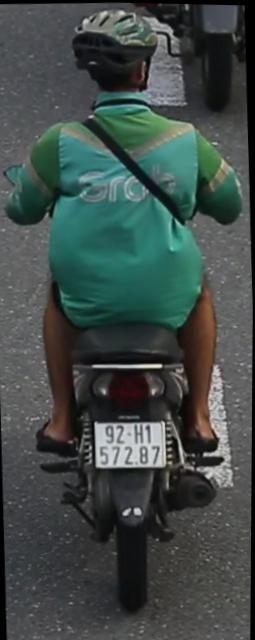LP: (90, 412, 171, 472)
helmet: (65, 4, 163, 93)
